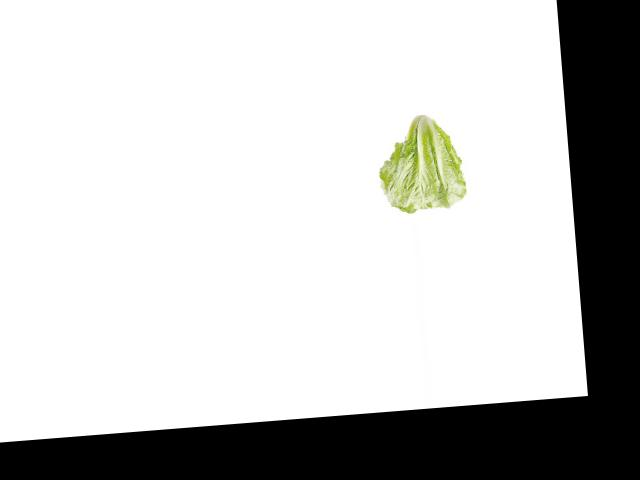lettuce: (371, 107, 464, 217)
